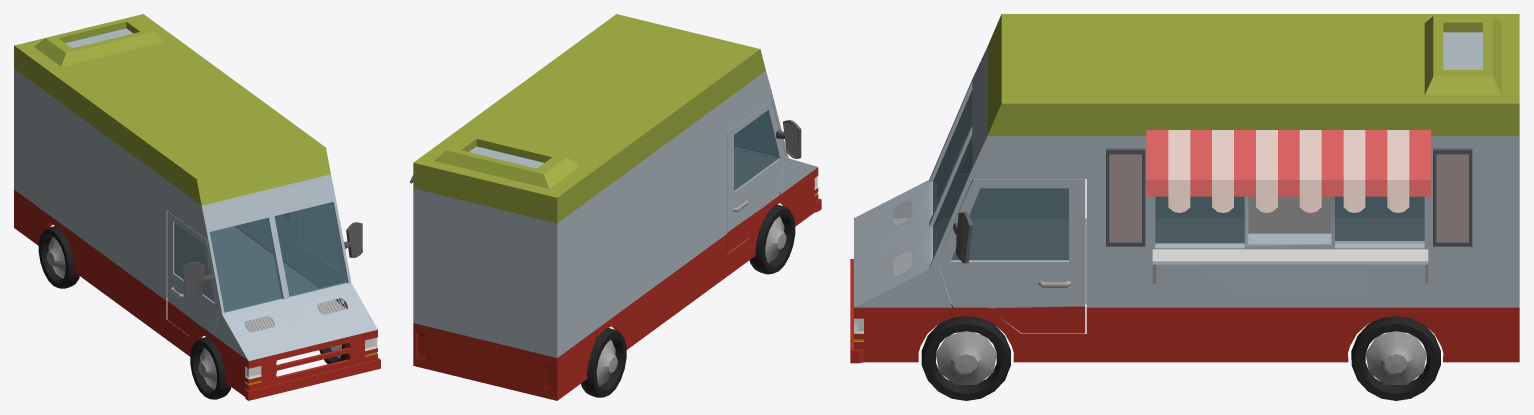
Rendered from PIZZA.fbx.
3 views of the same model, side by side, from view 1: azimuth 30°, elevation 25°; view 2: azimuth 150°, elevation 25°; view 3: azimuth 270°, elevation 25° (orthographic). The views are drawn at different scales.
Visible parts, largest first — view 1: polySurface3; view 2: polySurface3; view 3: polySurface3.
Part boxes in pixels (x1,y1,x2,y2): polySurface3: (14, 14, 380, 400); polySurface3: (409, 14, 821, 400); polySurface3: (850, 14, 1519, 400).
Bounding box in the file's own units: 2.99 × 3.23 × 6.31.
